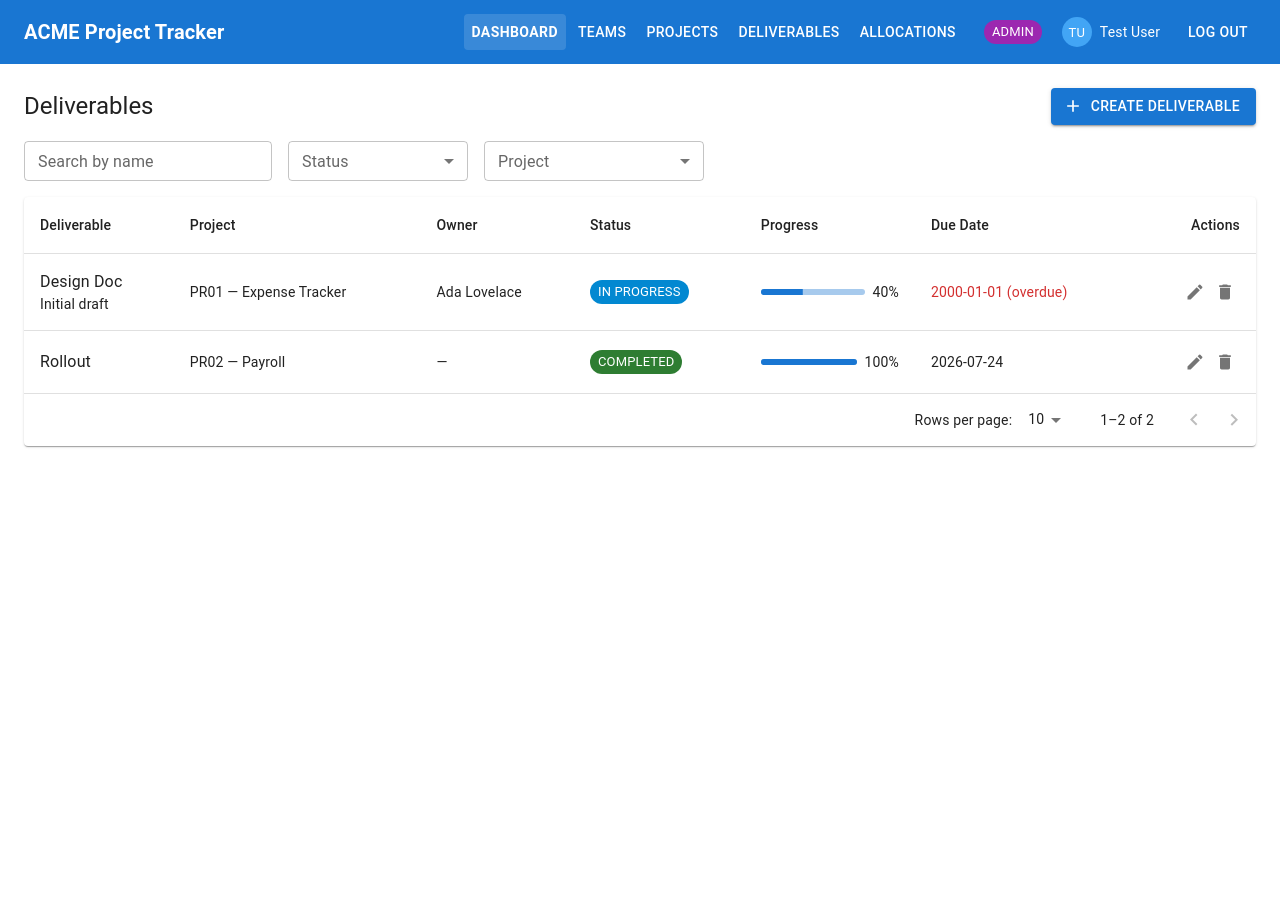
Scenario: delete flow › confirms before deleting, then removes the deliverable and shows a snackbar
Expected: the text "Design Doc" is shown, [40,272,122,290]
Click the 4th button.
click(1225, 292)  # box [1210,276,1240,306]
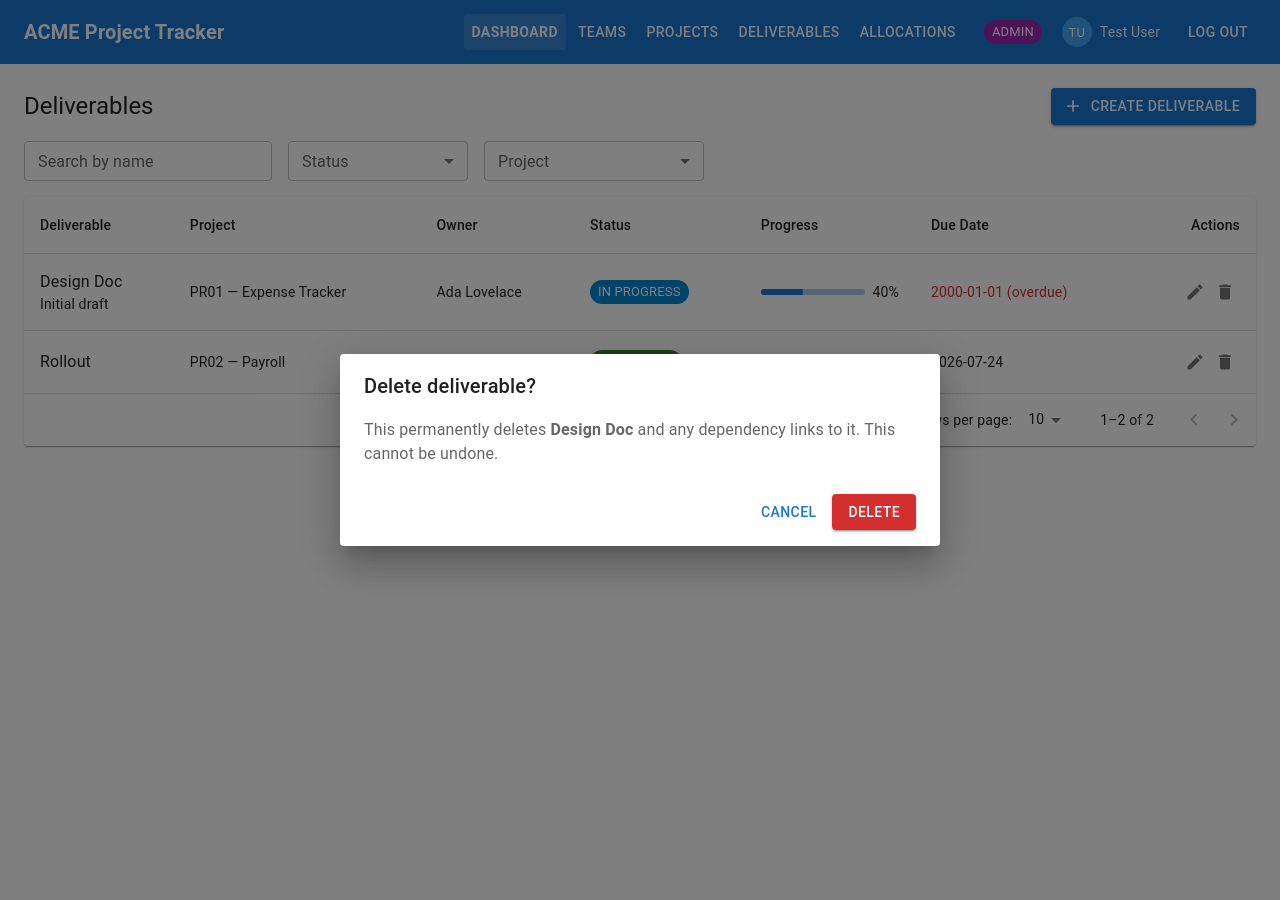
Result: the heading "Delete deliverable?" is shown at [364,374,536,398]
Click the button "Delete".
click(874, 512)  # box [832,494,916,530]
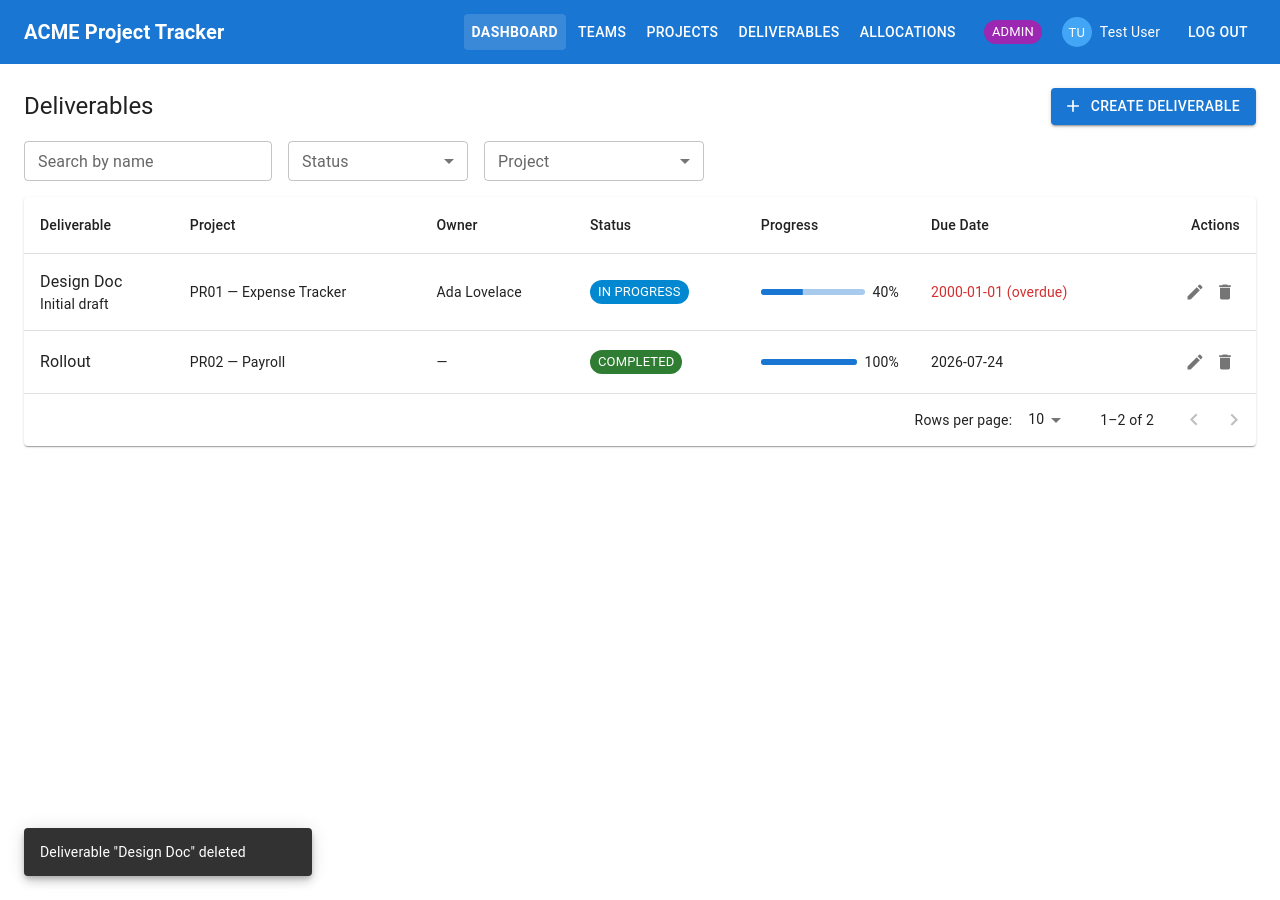
Result: the text "Deliverable \"Design Doc\" deleted" is shown at [40,844,246,860]
